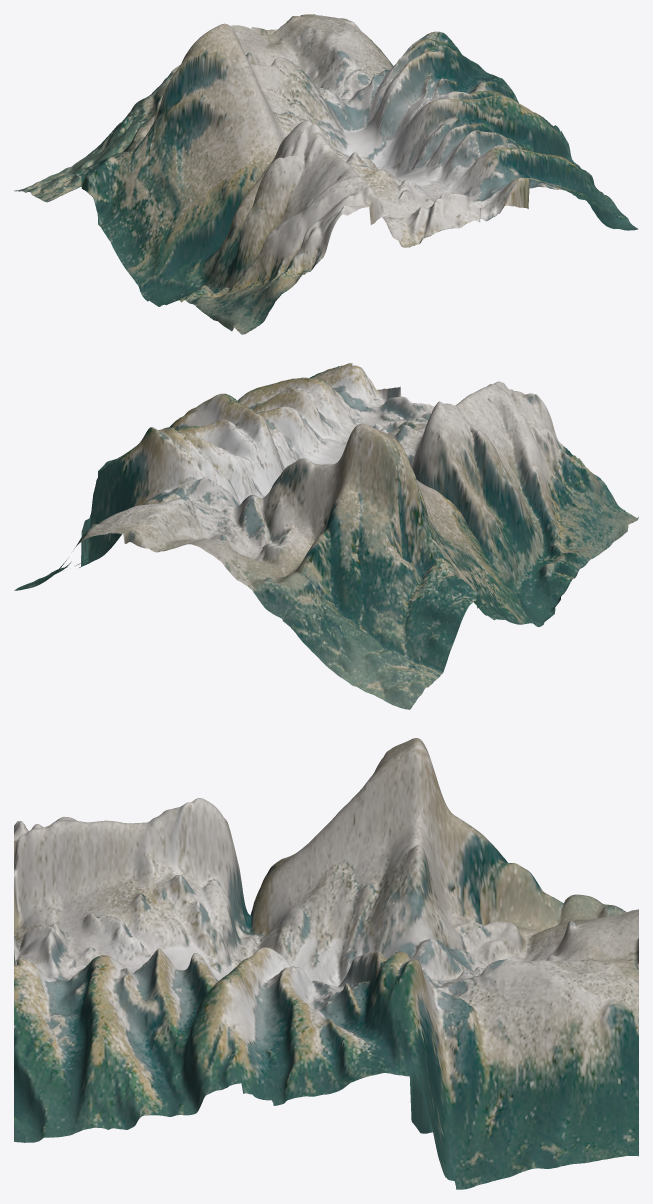
The model's file is dsm_f767eb0c53_mesh.glb.
3 views of the same model, one above another, from view 1: azimuth 30°, elevation 25°; view 2: azimuth 150°, elevation 25°; view 3: azimuth 270°, elevation 25° (orthographic). The views are drawn at different scales.
Visible parts, largest first — view 1: geometry_0; view 2: geometry_0; view 3: geometry_0.
Part boxes in pixels (x1,y1,x2,y2): geometry_0: [14, 14, 638, 334]; geometry_0: [14, 363, 638, 709]; geometry_0: [14, 738, 638, 1189].
Size of the model in its own units: 2 by 1 by 2.
